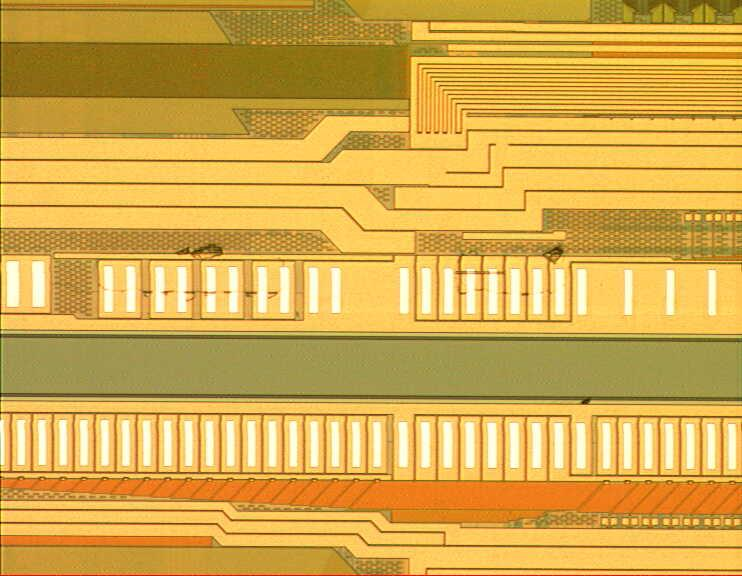SCRATCH: (57, 240, 610, 413)
